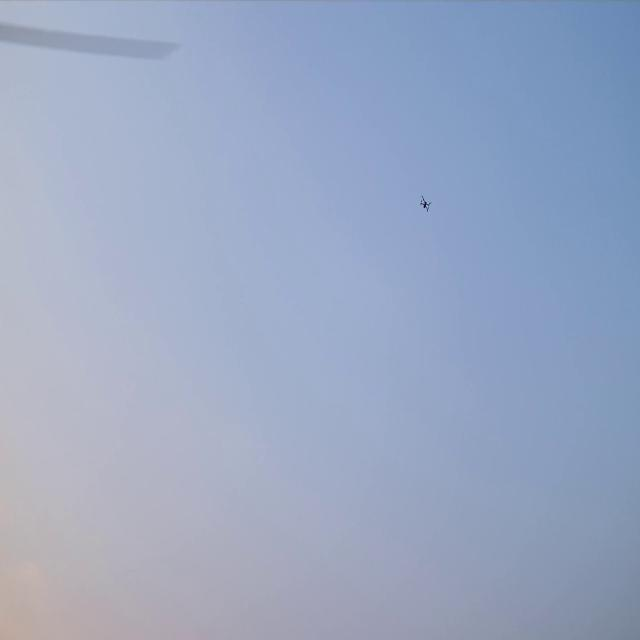UAV: (421, 198, 429, 210)
